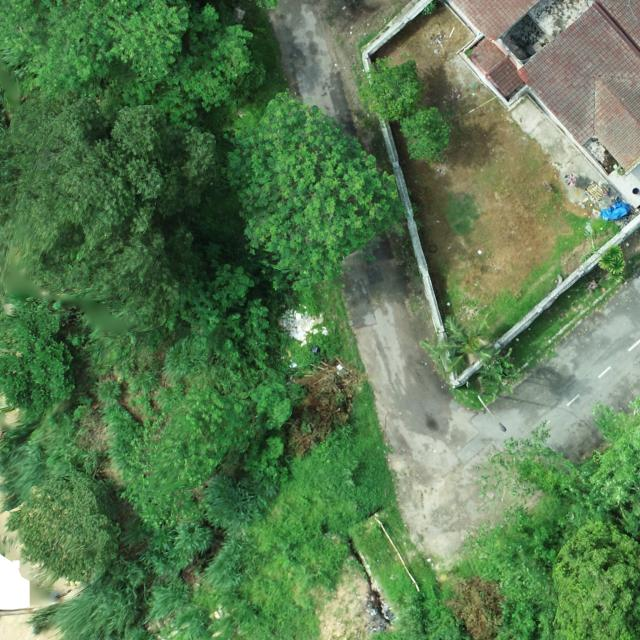tree: (13, 96, 220, 333), (222, 90, 402, 290), (0, 0, 192, 99), (142, 380, 292, 498), (4, 477, 120, 584), (542, 519, 640, 640), (165, 1, 267, 111), (420, 311, 518, 398), (0, 299, 74, 411), (358, 55, 422, 125), (398, 106, 451, 161), (598, 244, 628, 275)
